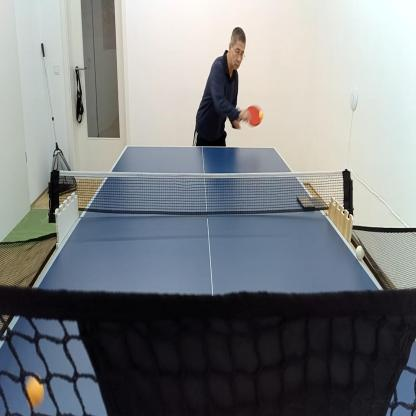Ball: (26, 372, 46, 408), (355, 244, 365, 261), (258, 109, 264, 120)
